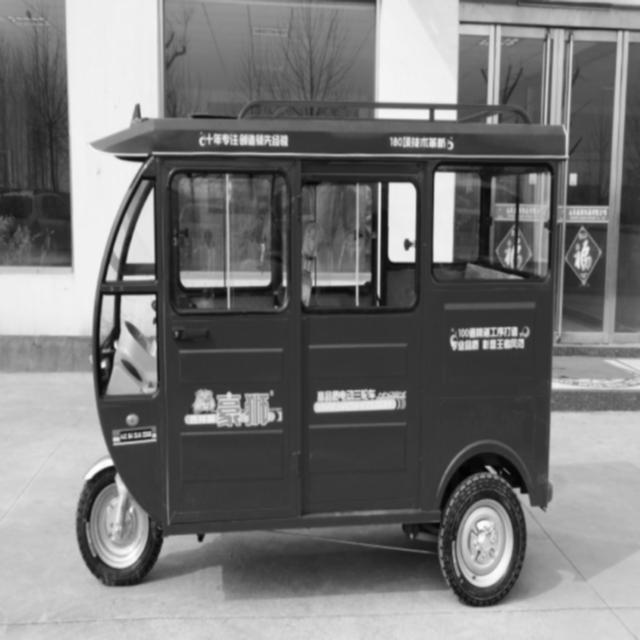tricycle: (73, 94, 565, 604)
